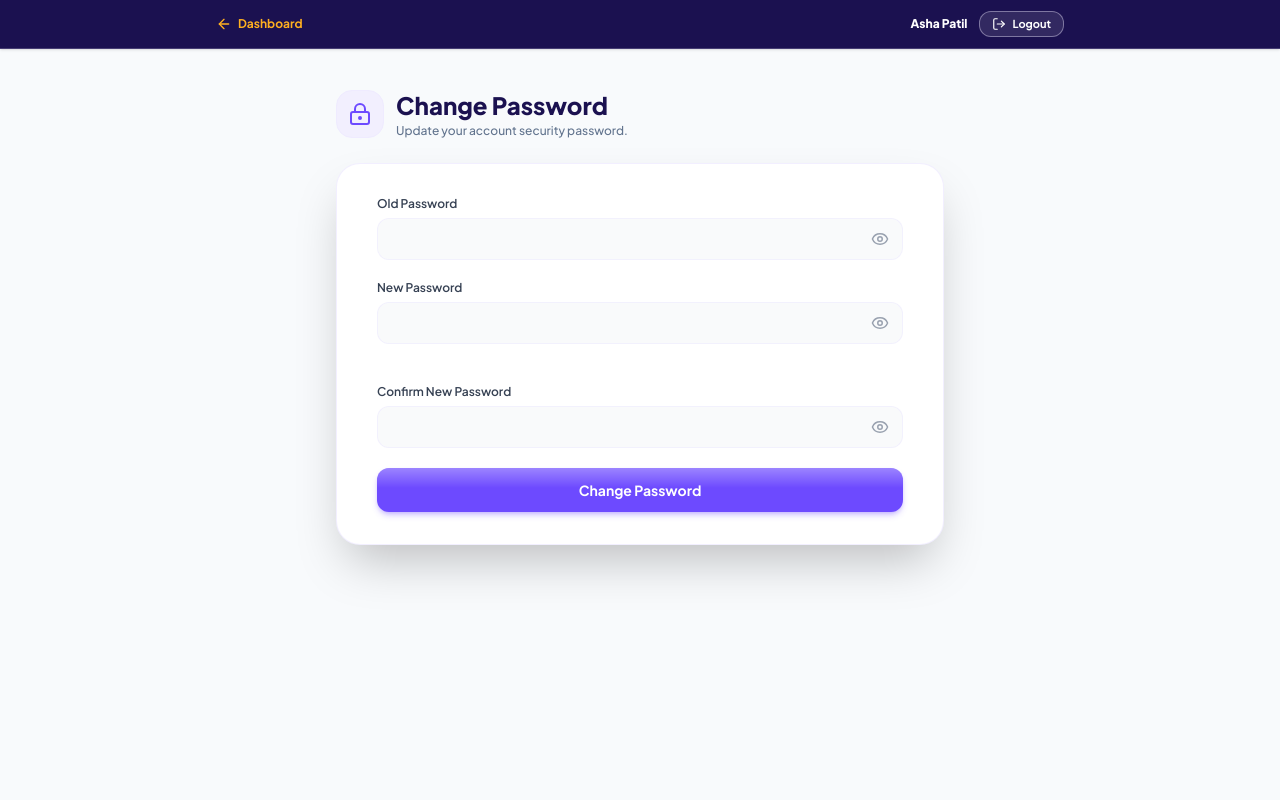
Test: ChangePassword › changes the password and shows the success dialog
Type "old-password" into the password field labelled "Old Password" at {"x": 640, "y": 239}, box top-left (377, 218), bottom-right (903, 260)
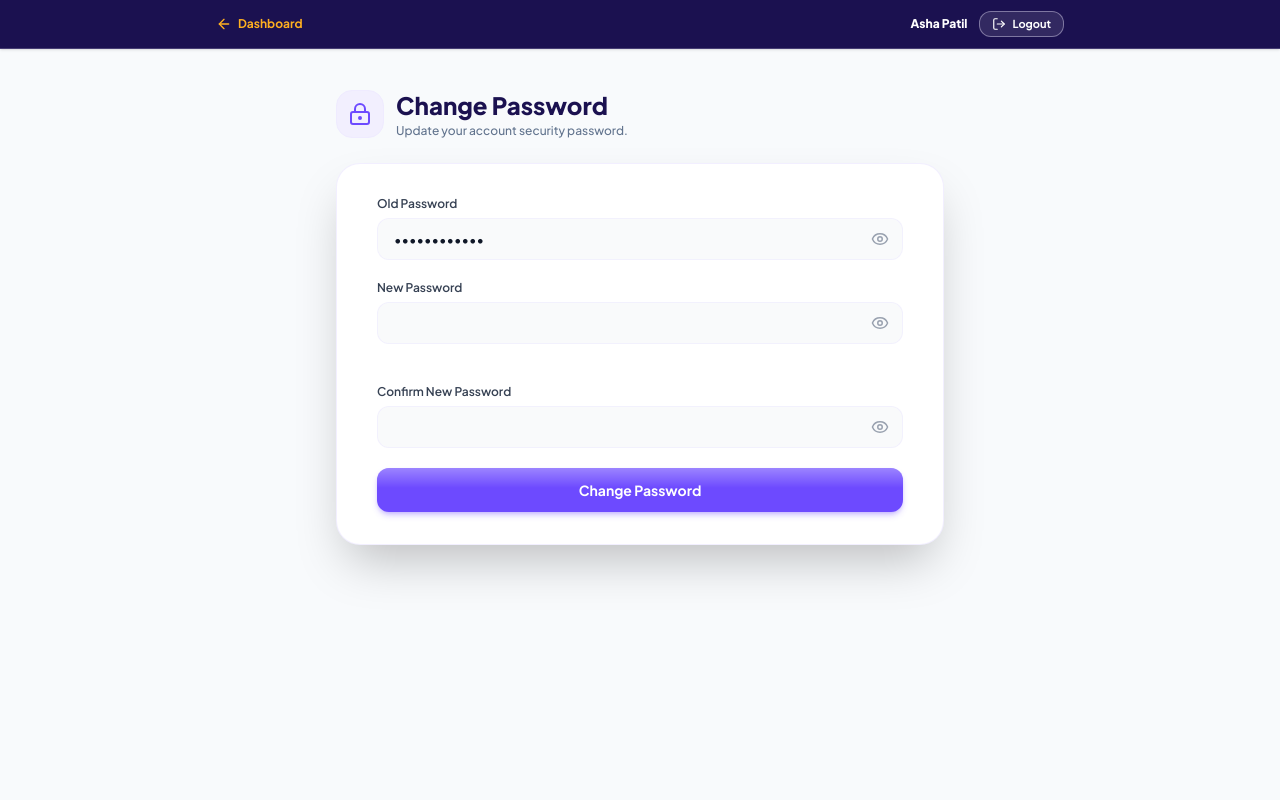
Type "Strong1!" into the password field labelled "New Password" at {"x": 640, "y": 323}, box top-left (377, 302), bottom-right (903, 344)
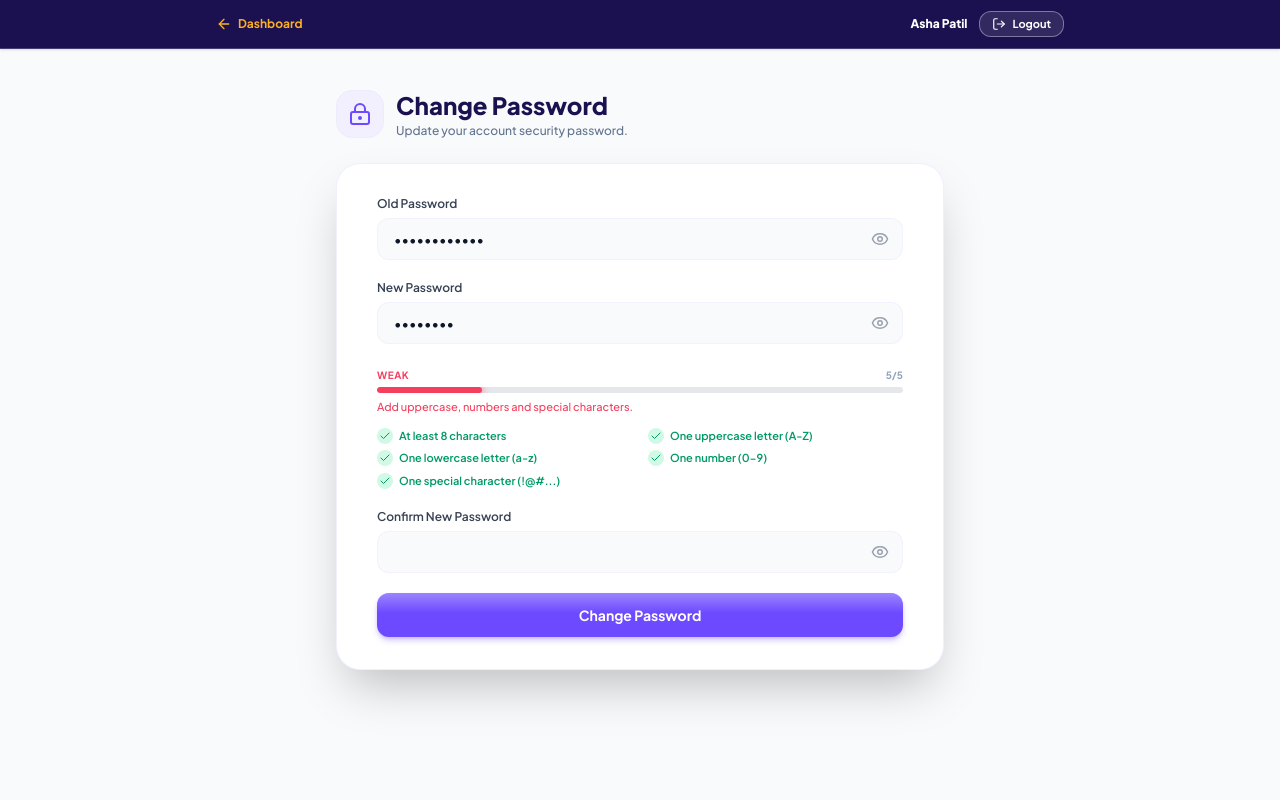
Type "Strong1!" into the password field labelled "Confirm New Password" at {"x": 640, "y": 552}, box top-left (377, 531), bottom-right (903, 573)
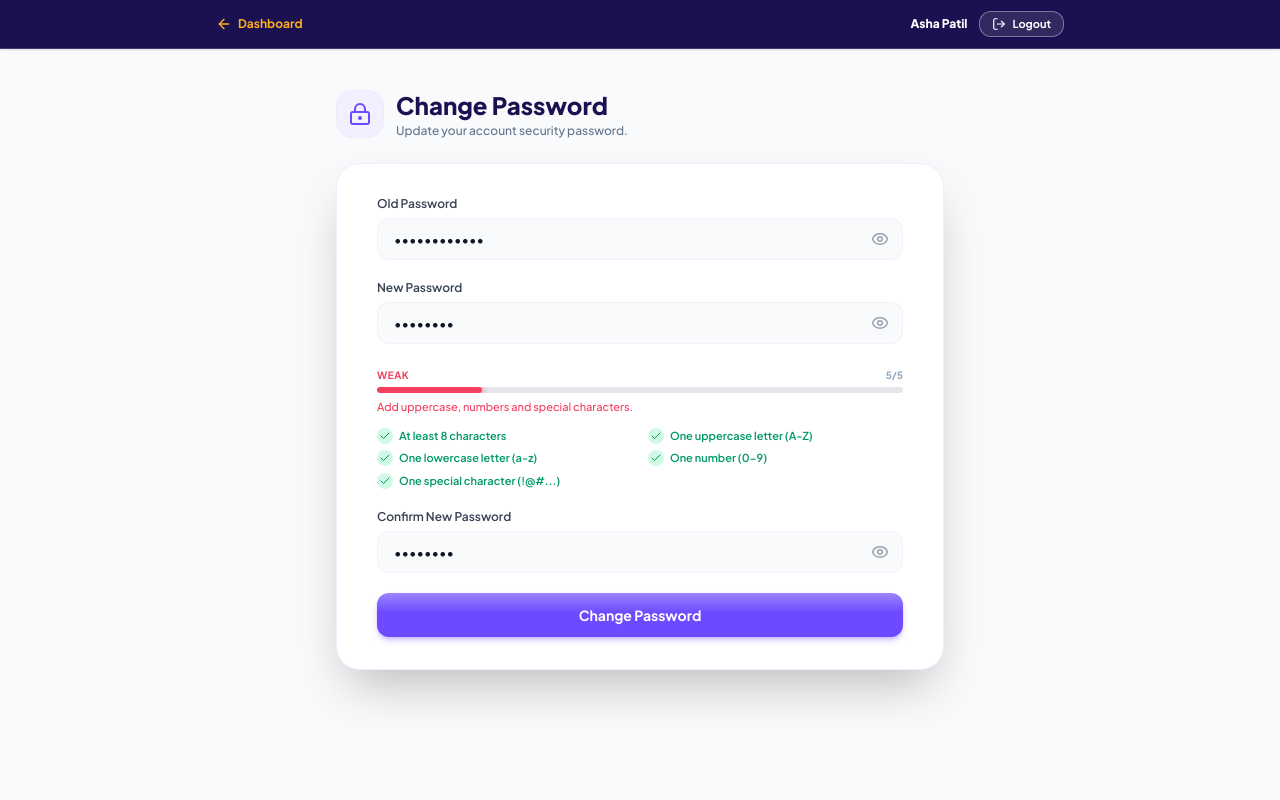
Click the button "Change Password" at {"x": 640, "y": 615}, box top-left (377, 593), bottom-right (903, 637)
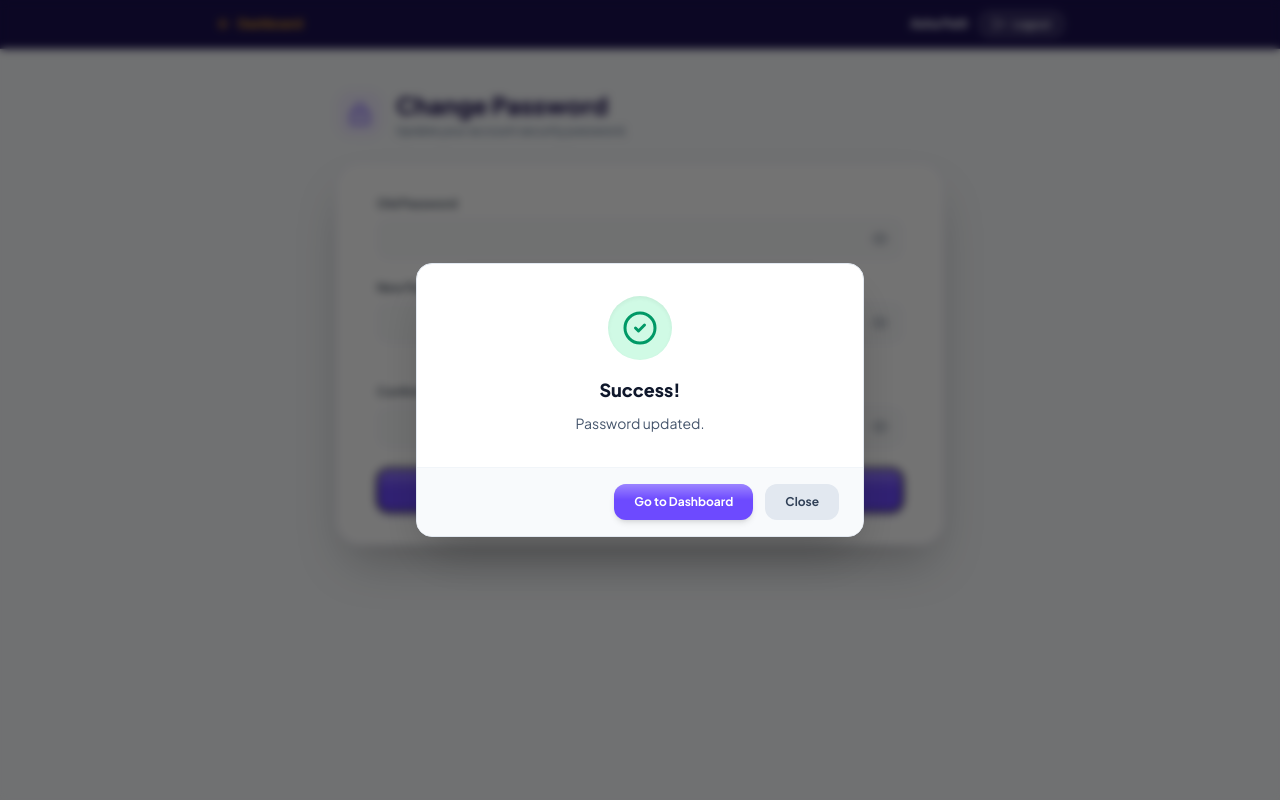
Check: the heading "Success!" is shown, box top-left (599, 378), bottom-right (681, 401)
Check: the text "Password updated." is shown, box top-left (576, 414), bottom-right (704, 432)
